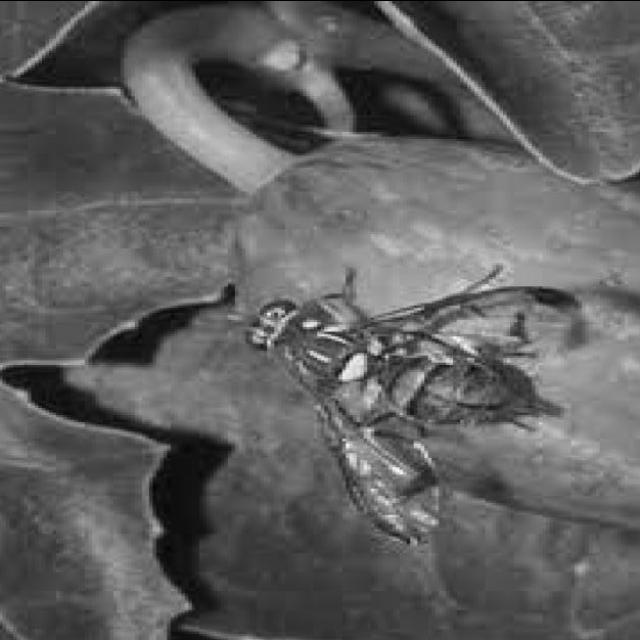Fruit fly: (226, 250, 585, 550)
